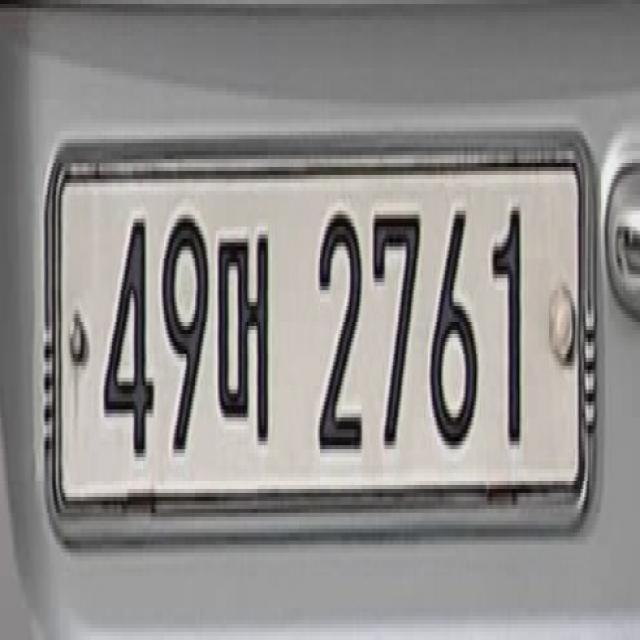1: (486, 190, 536, 484)
2: (318, 192, 364, 468)
4: (99, 210, 158, 472)
6: (429, 185, 476, 463)
7: (370, 185, 426, 470)
9: (160, 192, 208, 477)
license_plate: (42, 96, 604, 560)
meo: (213, 216, 290, 468)
